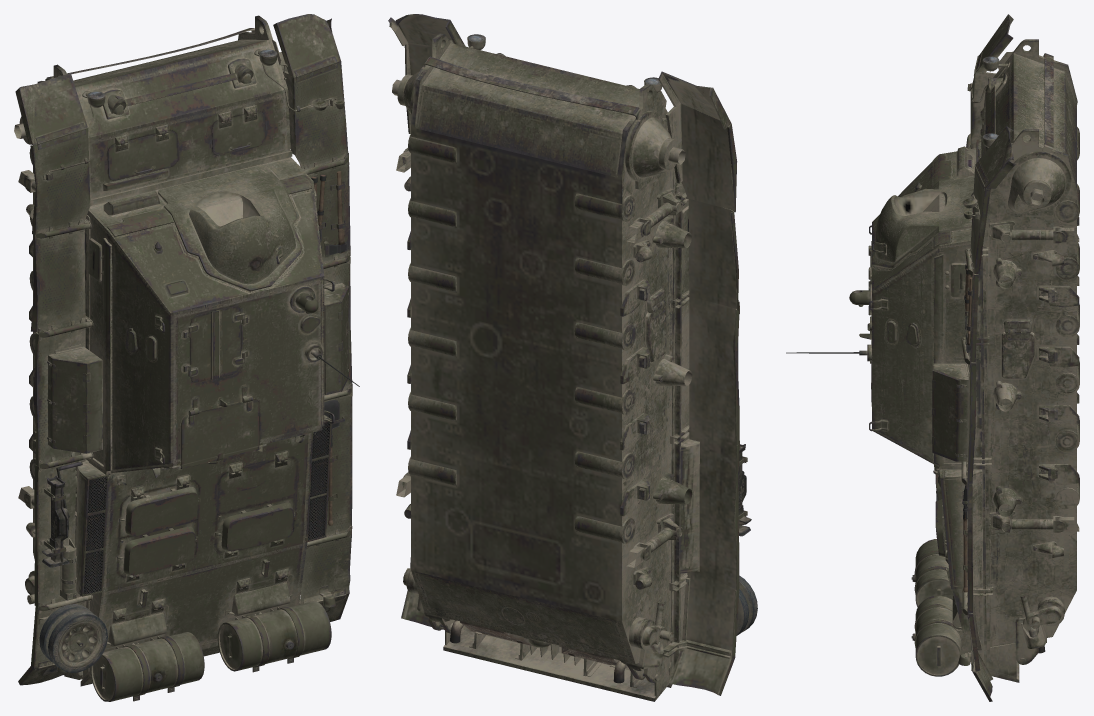
The model's file is Hull.glb.
3 views of the same model, side by side, from view 1: azimuth 30°, elevation 25°; view 2: azimuth 150°, elevation 25°; view 3: azimuth 270°, elevation 25° (orthographic). The views are drawn at different scales.
Visible parts, largest first — view 1: set_0_group_0; view 2: set_0_group_0; view 3: set_0_group_0.
Part boxes in pixels (x1=…): set_0_group_0: x1=14, y1=14, x2=359, y2=701; set_0_group_0: x1=388, y1=14, x2=757, y2=701; set_0_group_0: x1=786, y1=14, x2=1079, y2=701.
Bounding box in the file's own units: 2.97 × 5.38 × 2.57.
Materials: 1 (1 with a texture image).
